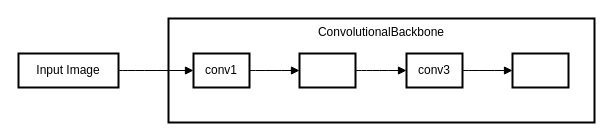
The diagram is 612 pixels wide and 140 high, and some of its shapes have lost their labels. Each missing label, with the box of its shape:
conv2: (298, 52, 356, 88)
conv4: (511, 52, 569, 88)
